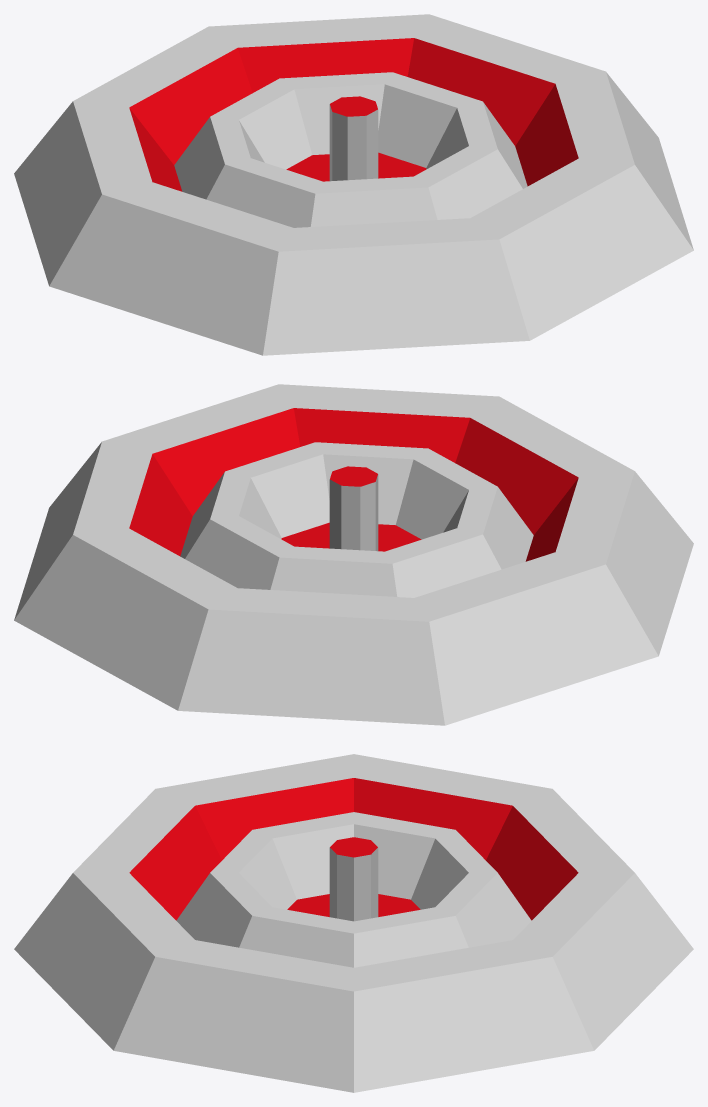
Rendered from laser_start.fbx.
3 renders of one model, top to bottom at view 1: azimuth 30°, elevation 25°; view 2: azimuth 150°, elevation 25°; view 3: azimuth 270°, elevation 25°, orthographic. The views are drawn at different scales.
Visible parts, largest first — view 1: LaserStartPoint; view 2: LaserStartPoint; view 3: LaserStartPoint.
Part boxes in pixels (x1,y1,x2,y2): LaserStartPoint: [14, 14, 693, 355]; LaserStartPoint: [14, 384, 693, 725]; LaserStartPoint: [14, 754, 693, 1092].
Size of the model in its own units: 48.4 by 48.4 by 8.
